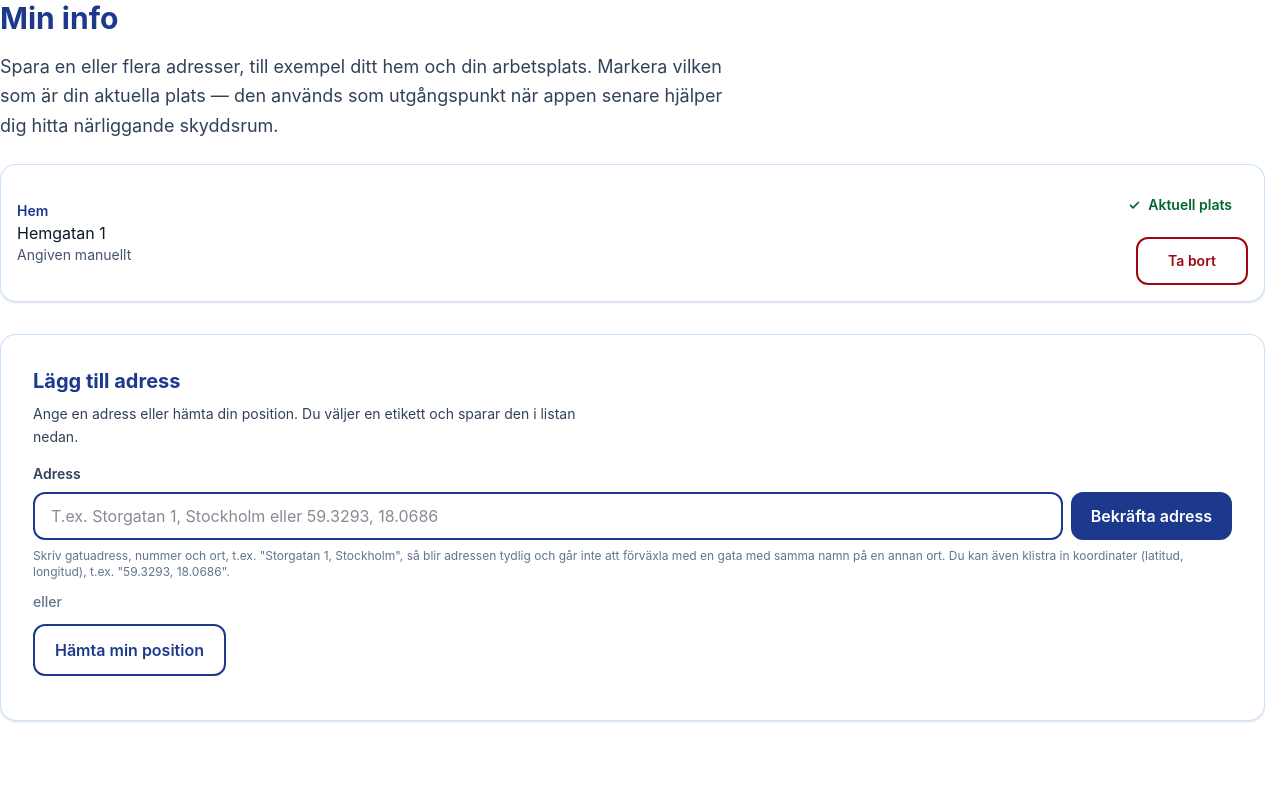
MyInfoPage › shows an error and keeps the address when removal fails
Expected: the text "Hemgatan 1" is shown, [17,223,106,243]
Click the button "Ta bort" at (1192, 261), box [1136,237,1248,285]
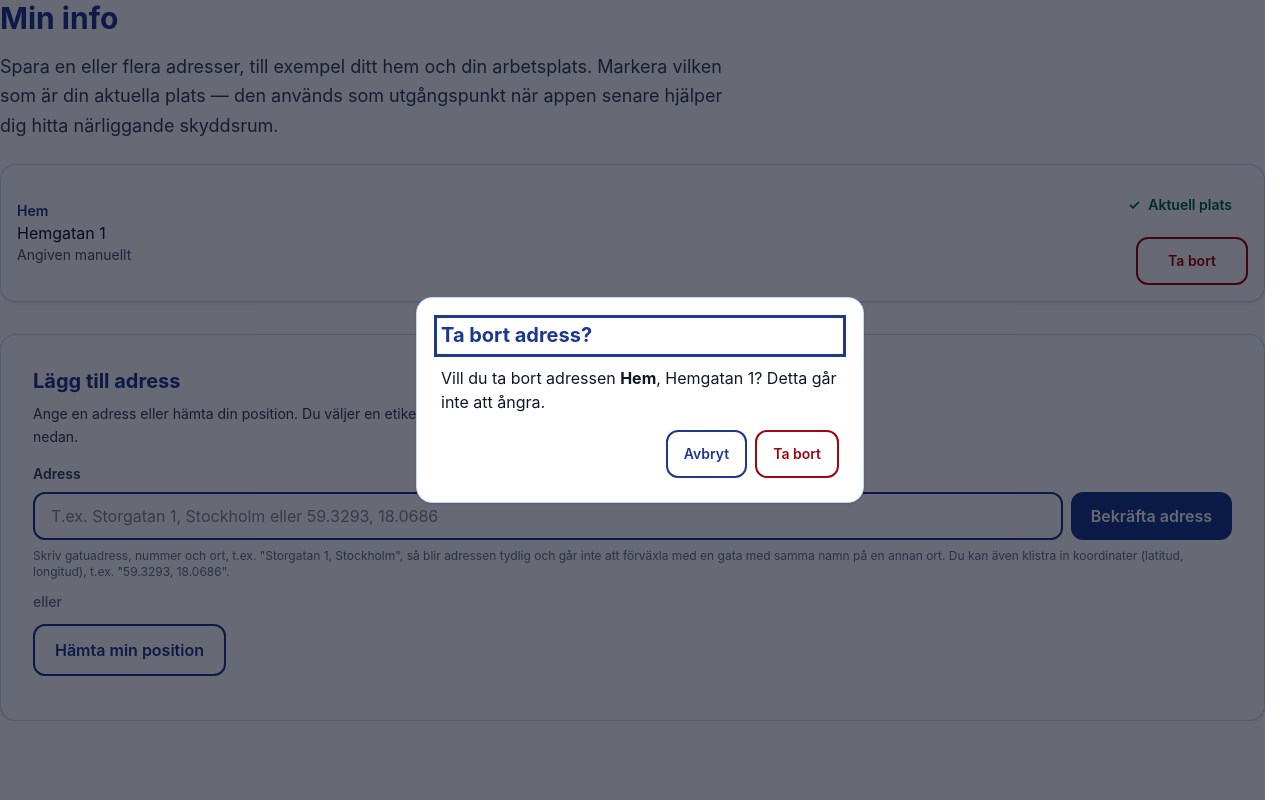
Click the button "Ta bort" at (797, 454), box [755,430,839,478]
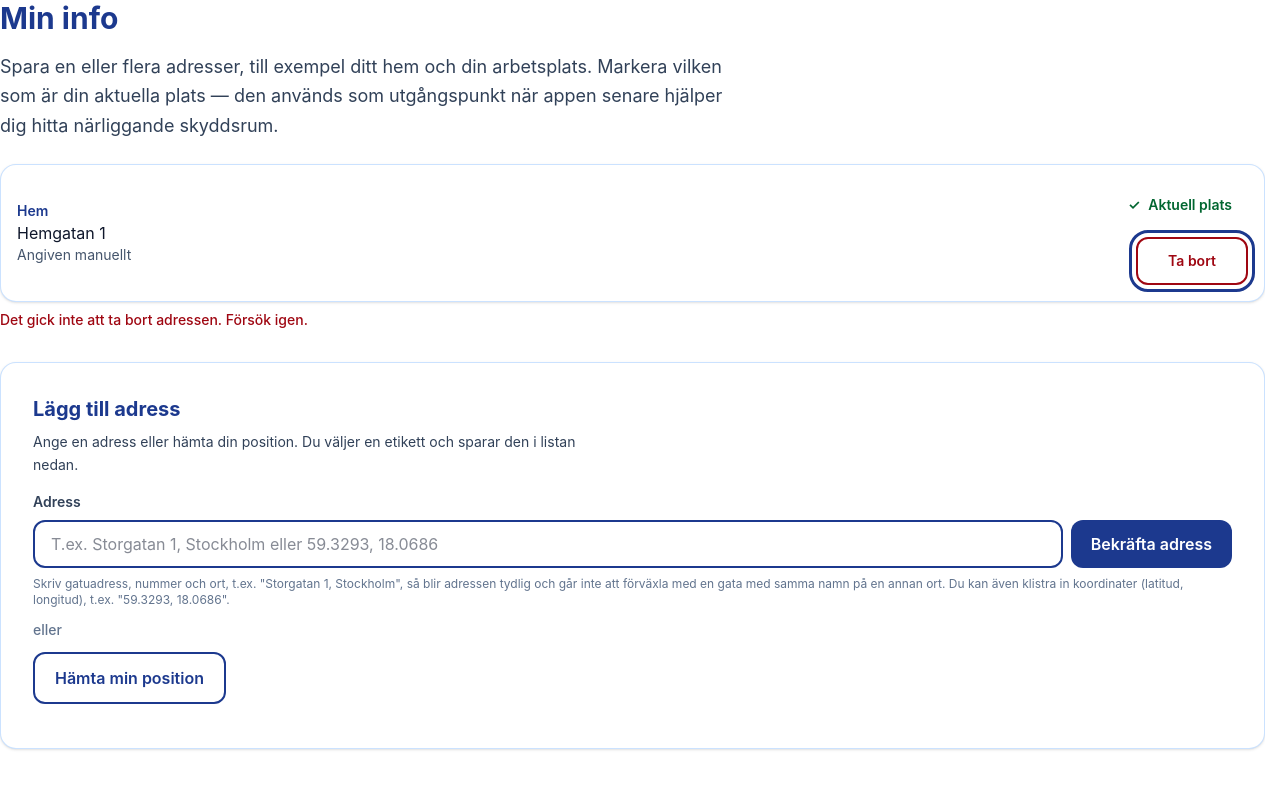
Expected: the text "Hemgatan 1" is shown, [17,223,106,243]
Expected: the text "Det gick inte att ta bort adressen. Försök igen." is shown, [0,311,308,328]
